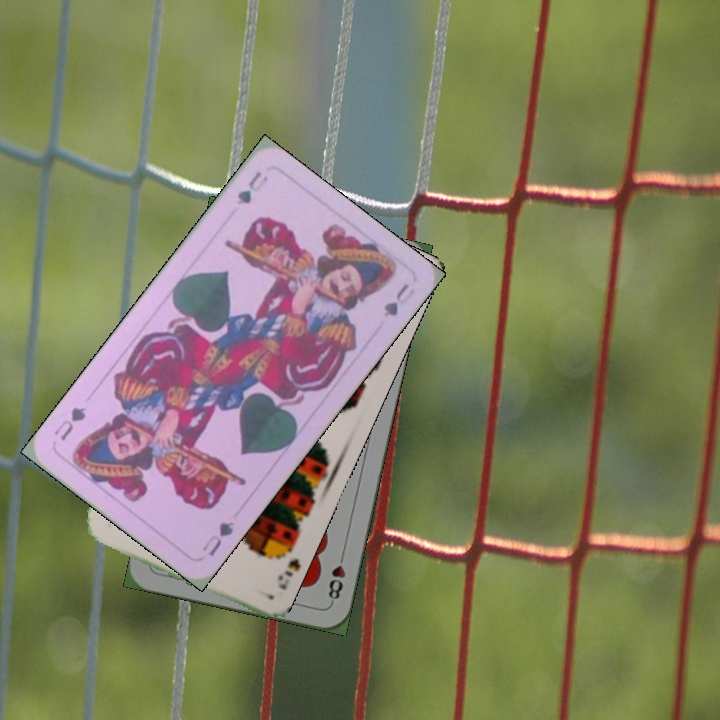GU: (197, 517, 237, 560), (232, 167, 271, 208)
H8: (324, 548, 348, 606)
S9: (273, 539, 298, 593)
